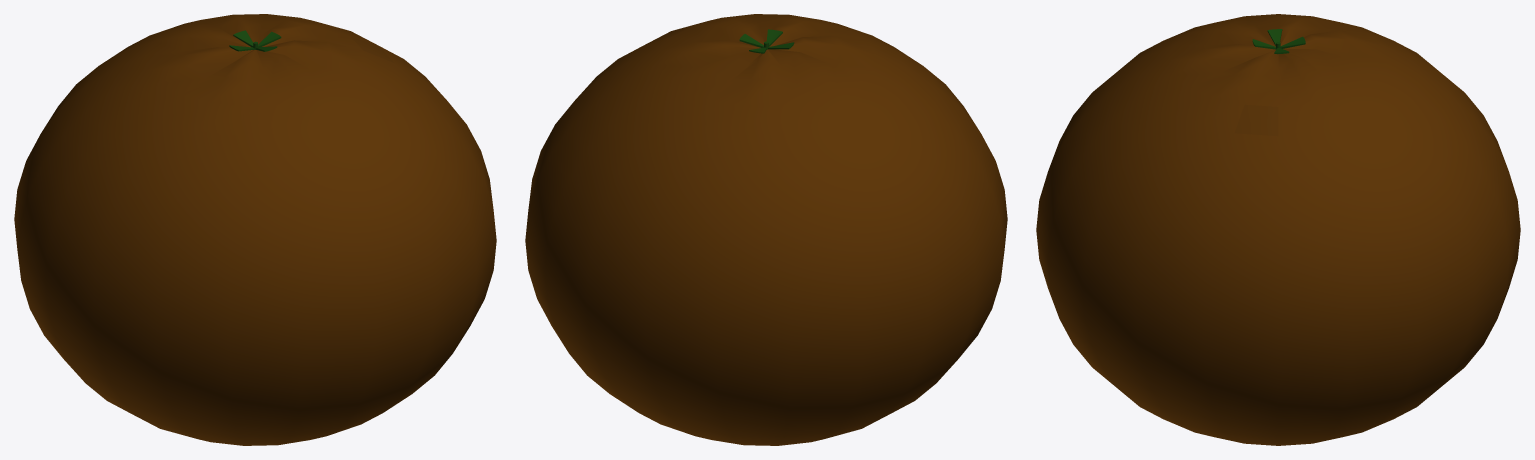
The model's file is Orange.fbx.
3 renders of one model, left to right at view 1: azimuth 30°, elevation 25°; view 2: azimuth 150°, elevation 25°; view 3: azimuth 270°, elevation 25°, orthographic.
Parts seen in each view (by area): view 1: Orange; view 2: Orange; view 3: Orange.
Part boxes in pixels (left/top/right/bottom): Orange: left=14, top=14, right=496, bottom=445; Orange: left=525, top=14, right=1007, bottom=445; Orange: left=1036, top=14, right=1520, bottom=445.
Bounding box in the file's own units: 8.51 × 7.31 × 8.51.
